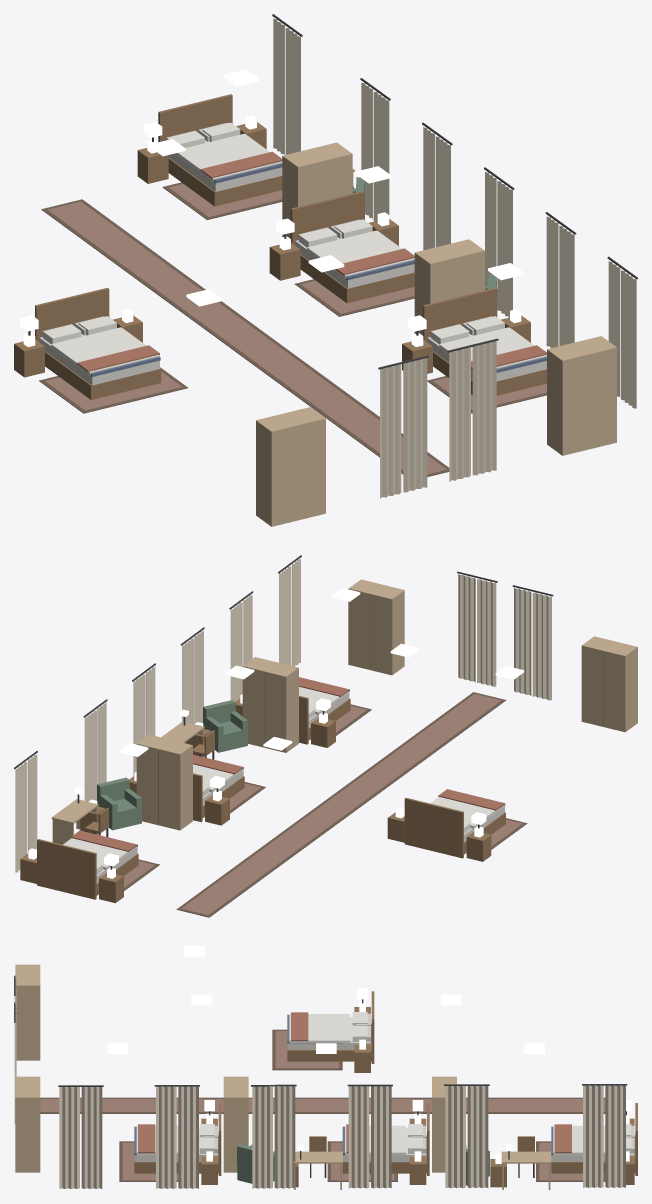
File: fine-s2.glb
3 views of the same model, one above another, from view 1: azimuth 30°, elevation 25°; view 2: azimuth 150°, elevation 25°; view 3: azimuth 270°, elevation 25° (orthographic). The views are drawn at different scales.
Visible parts, largest first — view 1: soft-s2, dresser.004, dresser.007, bed-frame.004, bed-frame.005, bed-frame.006, bed-frame.007, dresser.005, dresser.006, nightstand.012, nightstand.008, nightstand.010 (+1 smaller); view 2: soft-s2, dresser.004, dresser.007, dresser.005, dresser.006, bed-frame.004, bed-frame.005, lounge-chair.003, lounge-chair.002, writing-desk.002, bed-frame.007, bed-frame.006 (+7 smaller); view 3: soft-s2, dresser.007, dresser.004, dresser.006, bed-frame.004, dresser.005, bed-frame.005, bed-frame.007, bed-frame.006, writing-desk.002, writing-desk.003, lounge-chair.003 (+5 smaller).
Part boxes in pixels (x1,y1,x2,y2): soft-s2: (20,14,637,498); dresser.004: (256,407,325,526); dresser.007: (547,336,616,455); bed-frame.004: (35,287,161,399); bed-frame.005: (158,94,282,206); bed-frame.006: (290,191,414,303); bed-frame.007: (423,287,546,395); dresser.005: (282,142,352,238); dresser.006: (414,239,484,335); nightstand.012: (269,236,300,280); nightstand.008: (14,333,44,377); nightstand.010: (137,139,168,183); soft-s2: (14,555,553,917); dresser.004: (581,636,637,732); dresser.007: (348,579,404,675); dresser.005: (136,734,192,830); dresser.006: (242,657,298,752); bed-frame.004: (404,797,505,858); bed-frame.005: (37,839,138,899); lounge-chair.003: (203,700,247,752); lounge-chair.002: (97,777,141,830); writing-desk.002: (51,787,98,844); bed-frame.007: (299,689,350,744); bed-frame.006: (193,767,244,822); soft-s2: (14,975,632,1188); dresser.007: (15,1076,40,1172); dresser.004: (15,964,40,1060); dresser.006: (223,1076,248,1172); bed-frame.004: (287,991,374,1063); dresser.005: (432,1076,456,1172); bed-frame.005: (551,1103,637,1175); bed-frame.007: (134,1103,221,1175); bed-frame.006: (342,1103,429,1175); writing-desk.002: (501,1144,551,1189); writing-desk.003: (293,1144,342,1189); lounge-chair.003: (237,1144,274,1183).
Bounding box in the file's own units: 9.36 × 2.86 × 15.09.
